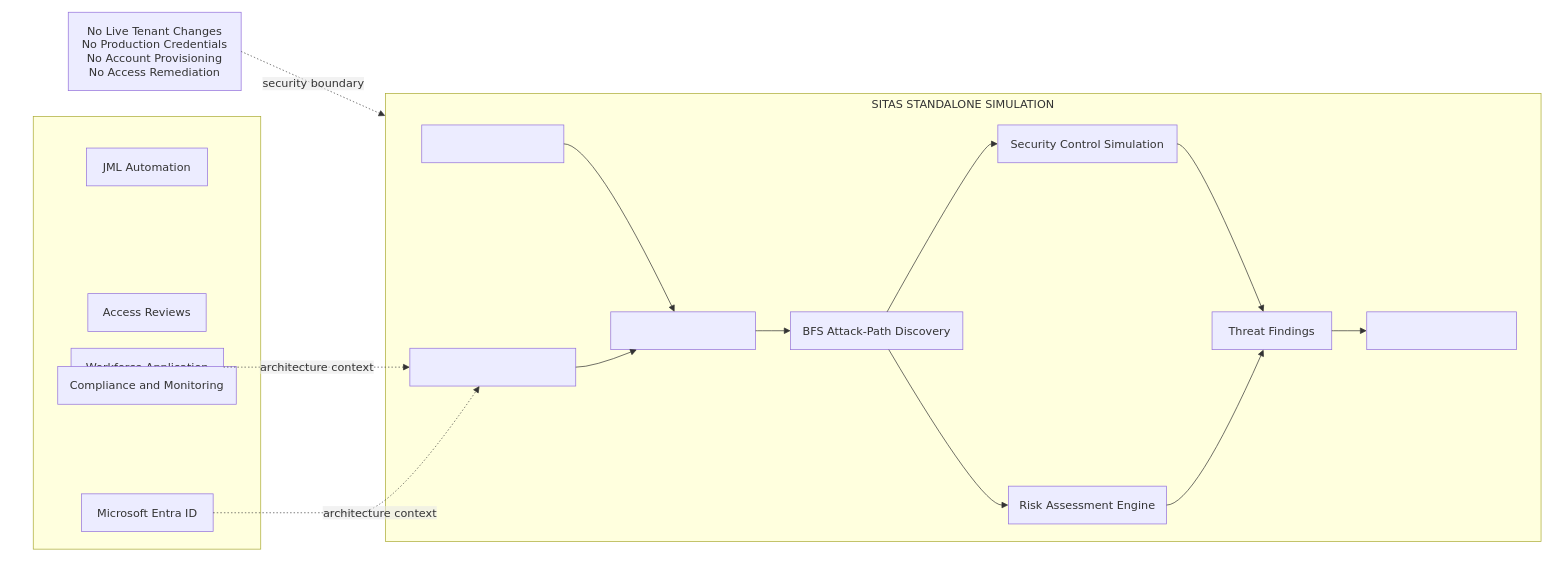
Image size: 1553x561. Some labels were removed from this diagram. Each missing label, with the box of its shape:
Attack Graph Engine: (610, 311, 756, 350)
Reports and Evidence: (1366, 311, 1517, 350)
Scenario Definitions: (421, 124, 564, 163)
SUNHAVEN OPERATIONAL IAM ENVIRONMENT: (33, 116, 261, 549)
Synthetic Sunhaven Data: (409, 348, 576, 386)
